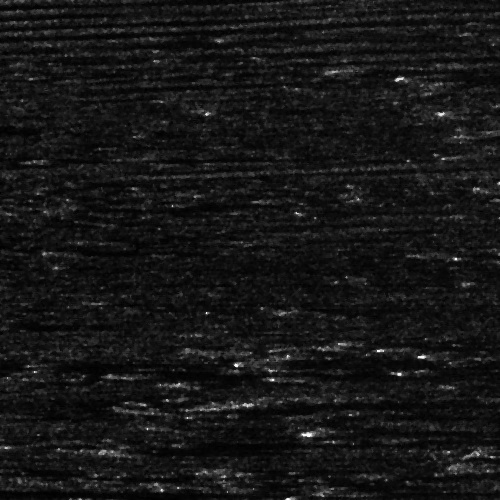object: (343, 340, 436, 351), (185, 400, 278, 411), (385, 247, 468, 256), (66, 444, 159, 451), (216, 356, 269, 365), (119, 150, 182, 157), (97, 368, 160, 375), (255, 373, 338, 378), (0, 318, 20, 327)
shadow: (129, 368, 468, 375), (232, 400, 439, 411), (0, 486, 228, 495), (243, 356, 451, 365), (113, 444, 314, 451), (390, 340, 500, 351), (0, 318, 125, 327), (151, 150, 291, 157), (297, 373, 438, 378), (427, 247, 500, 256)
